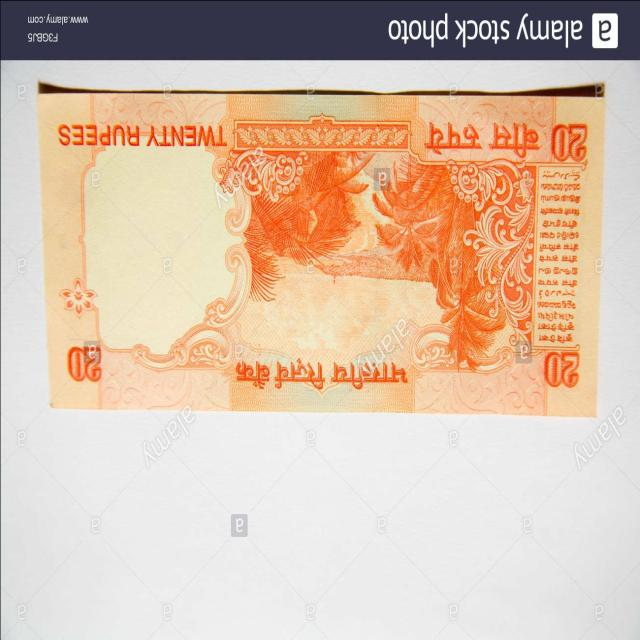20IndianRupees: (44, 97, 606, 416)
